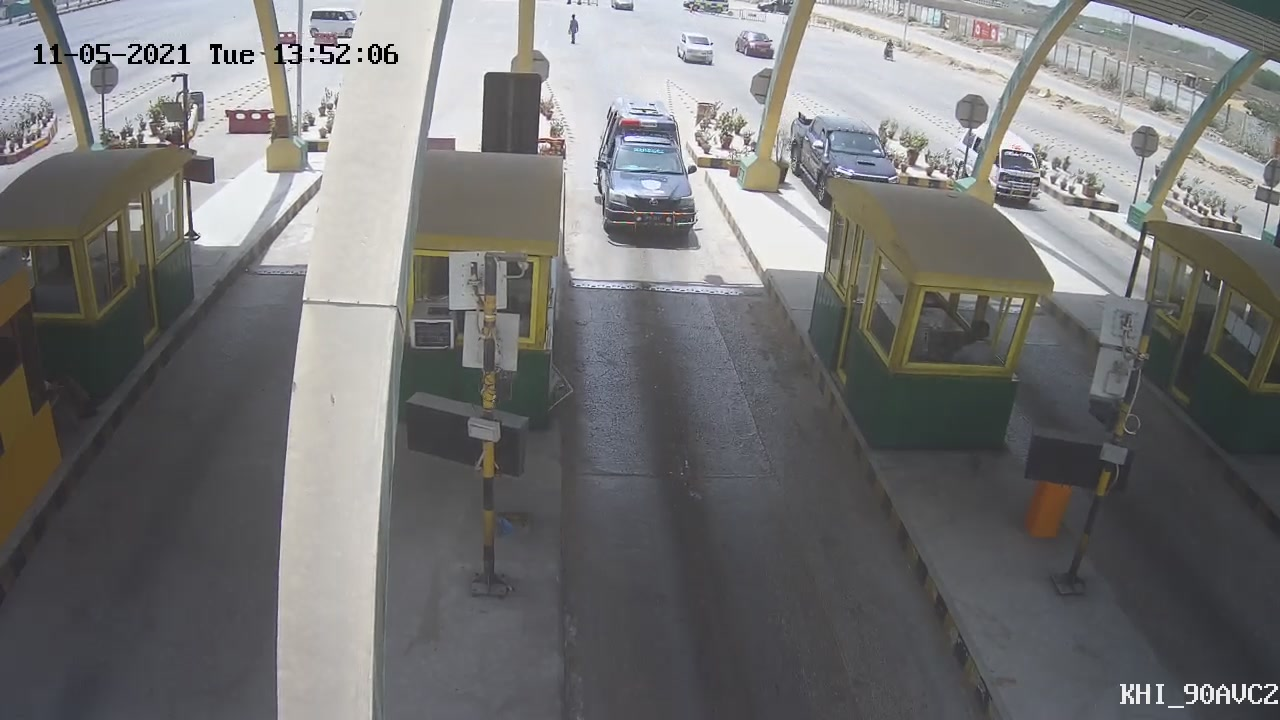F1: (584, 91, 702, 249)
